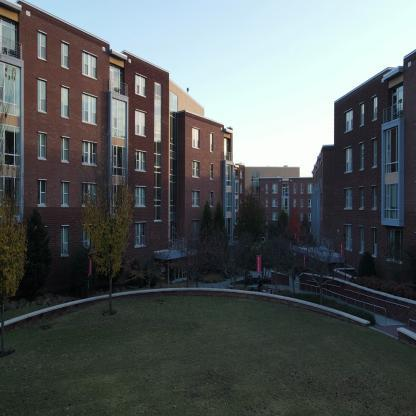Wolf Ridge: (1, 0, 415, 329)
